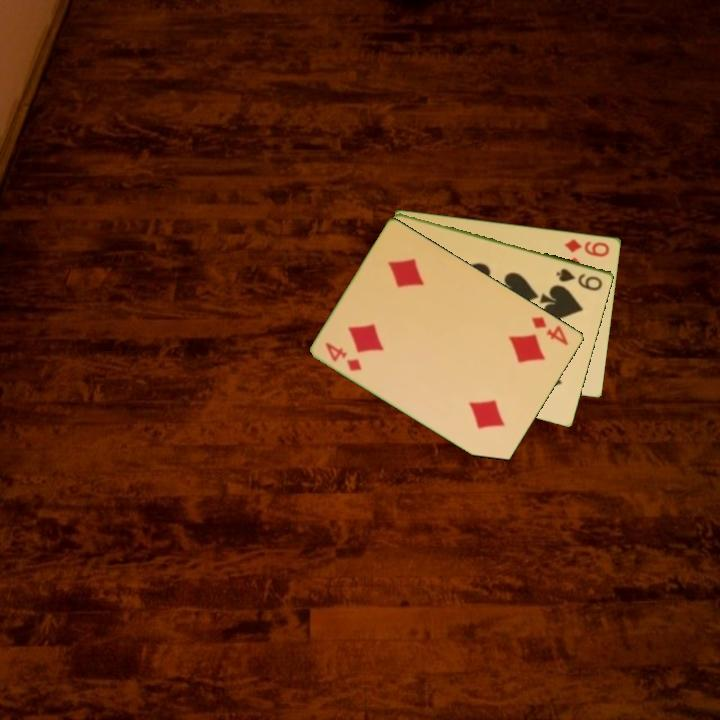4d: (528, 313, 572, 348), (322, 339, 365, 374)
9d: (562, 235, 613, 259)
9s: (553, 264, 606, 294)
